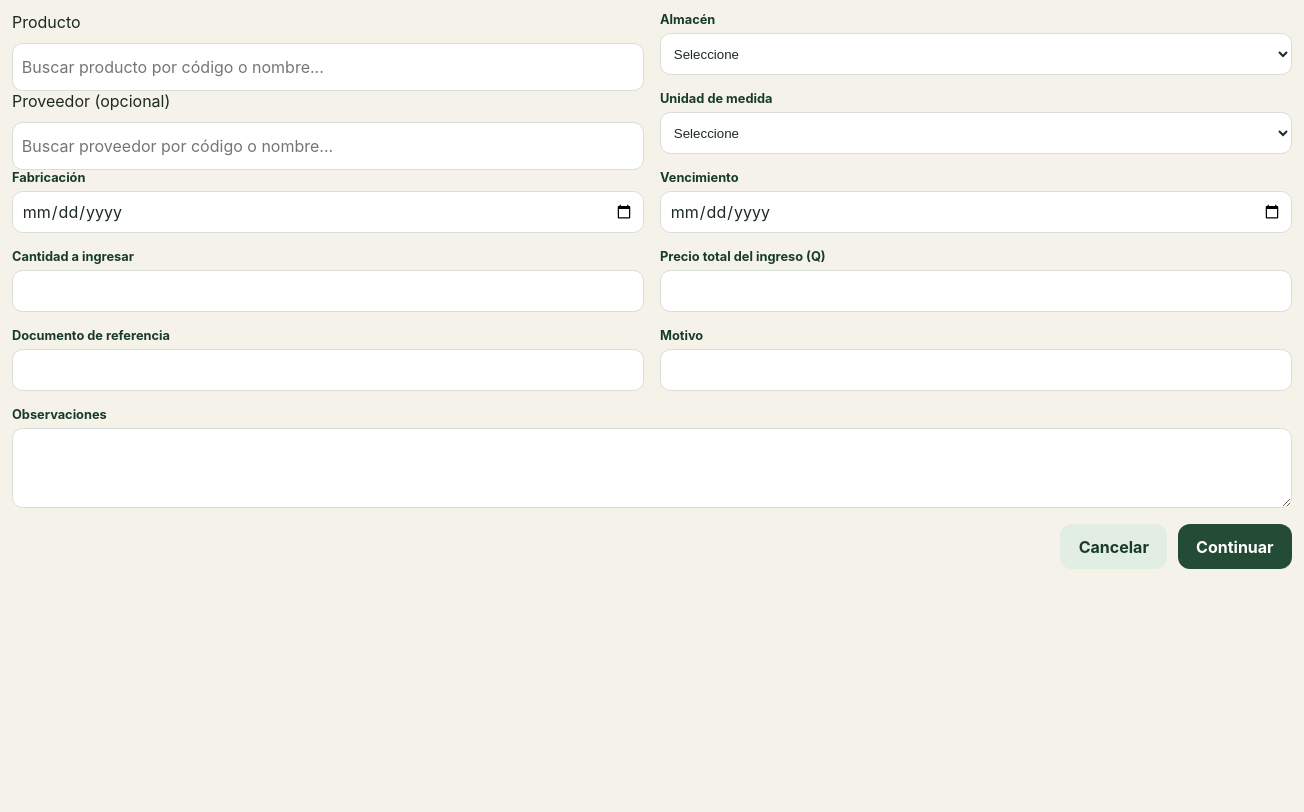
Test case: saldo inicial de Inventario › busca por código y nombre sin exponer IDs ni mostrar el select masivo
Expected: the option "ALM1 · Cebada" is not shown
Step 1. Type "ALM1" into the dropdown labelled "Producto" → (328,67), box x1=12 y1=43 x2=644 y2=91
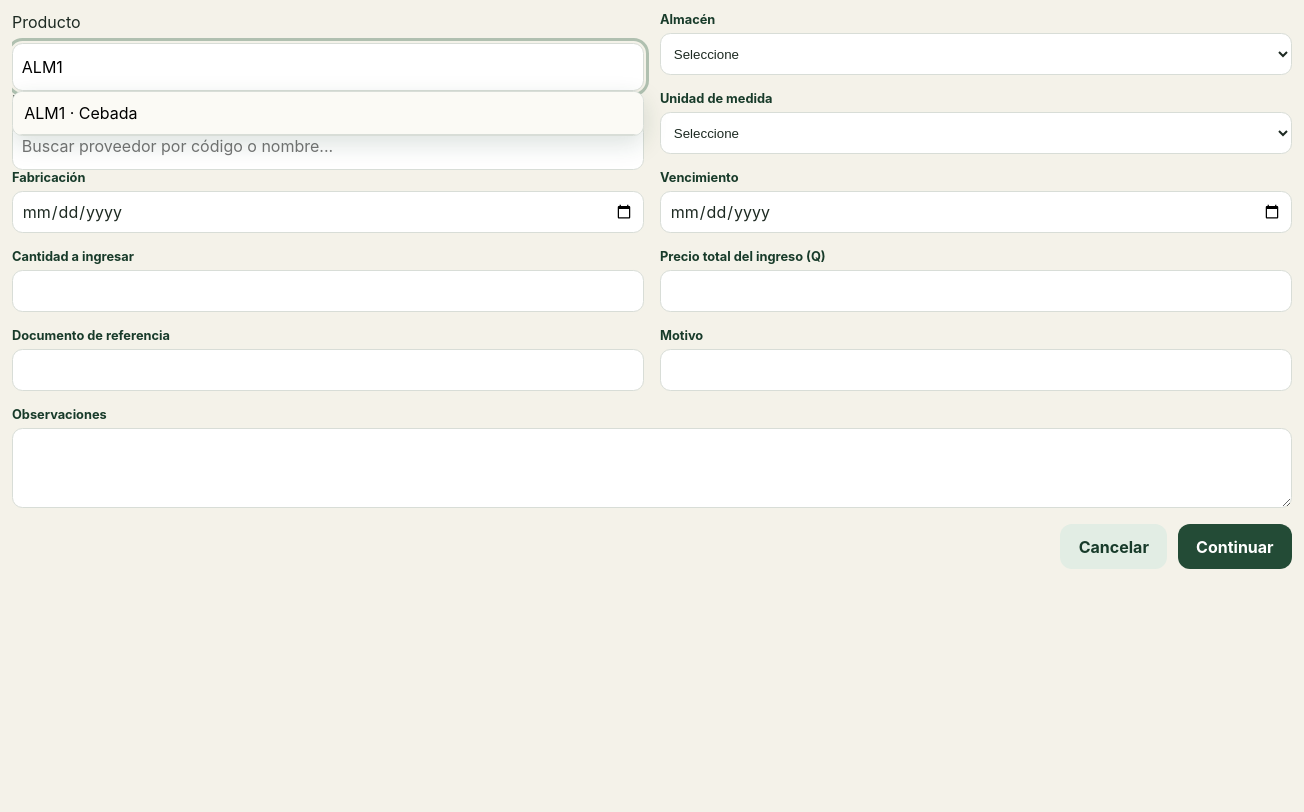
Expected: the option "ALM1 · Cebada" is shown, x1=13 y1=92 x2=643 y2=135
Step 2. Replace the text in the dropdown labelled "Producto" with "maiz" → (328,67), box x1=12 y1=43 x2=644 y2=91
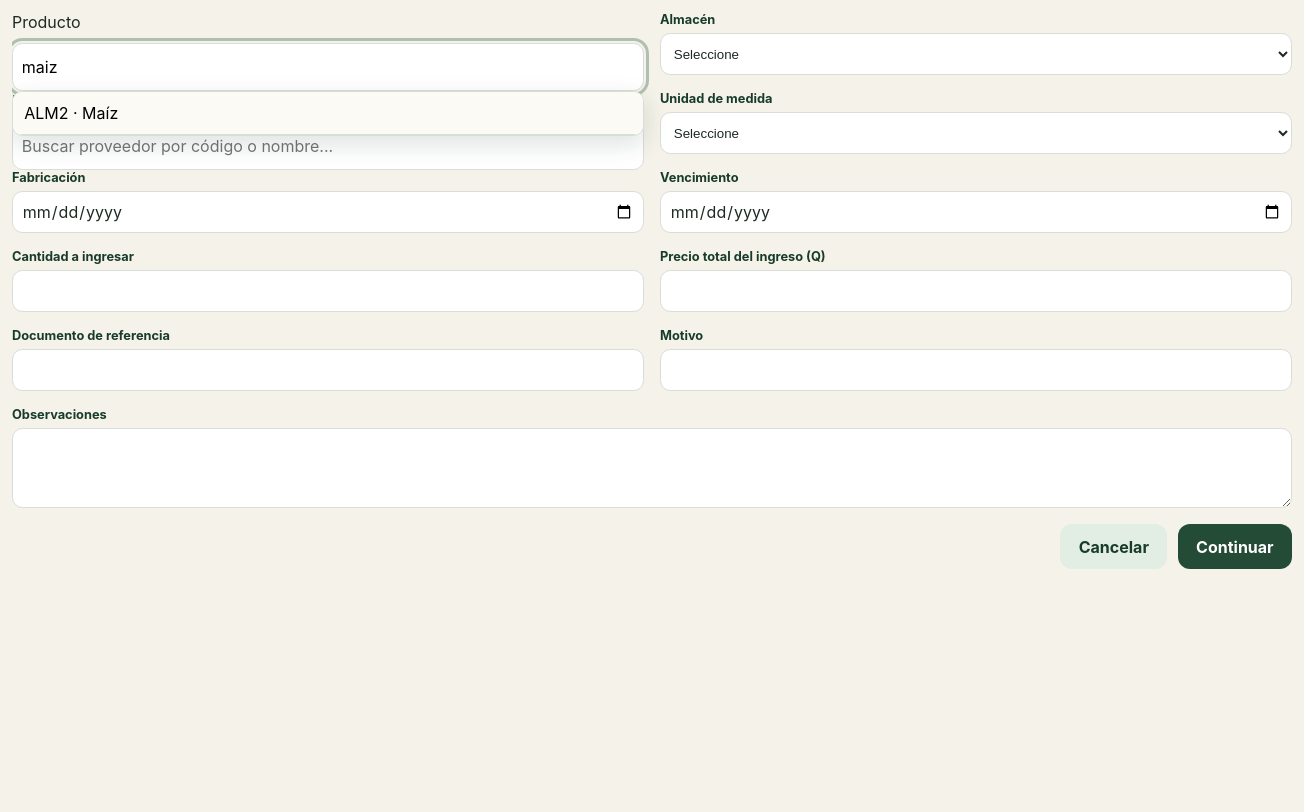
Expected: the option "ALM2 · Maíz" is shown, x1=13 y1=92 x2=643 y2=135
